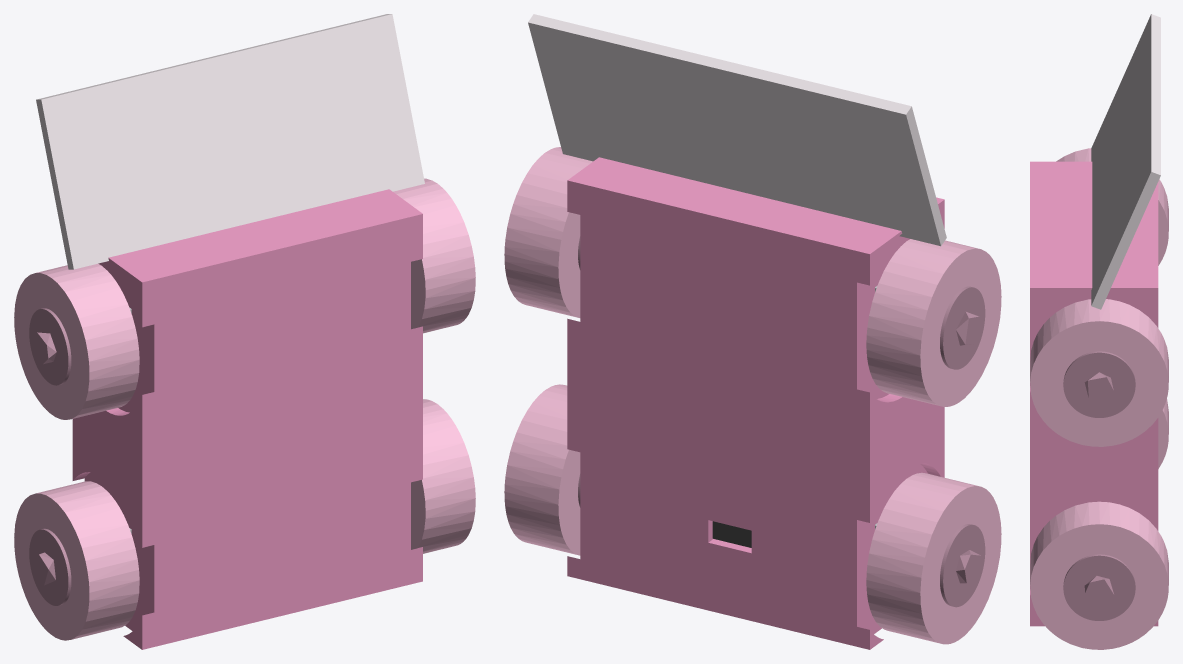
The model's file is bzwroink.glb.
3 views of the same model, side by side, from view 1: azimuth 30°, elevation 25°; view 2: azimuth 150°, elevation 25°; view 3: azimuth 270°, elevation 25° (orthographic). The views are drawn at different scales.
Visible parts, largest first — view 1: chassis, scoop, wheel_r0, wheel_r1, wheel_l1, wheel_l0, dt_hub_wheel_r0, dt_hub_wheel_r1; view 2: chassis, scoop, wheel_r0, wheel_r1, wheel_l1, wheel_l0, dt_hub_wheel_r0, dt_hub_wheel_r1, el_switch; view 3: chassis, wheel_l0, wheel_l1, scoop, dt_hub_wheel_l0, dt_hub_wheel_l1, wheel_r1, wheel_r0.
Part boxes in pixels (x1,y1,x2,y2): chassis: [72, 189, 422, 649]; scoop: [36, 14, 424, 269]; wheel_r0: [14, 481, 139, 640]; wheel_r1: [14, 263, 139, 419]; wheel_l1: [393, 178, 475, 333]; wheel_l0: [411, 399, 475, 553]; dt_hub_wheel_r0: [29, 528, 71, 605]; dt_hub_wheel_r1: [29, 308, 71, 385]; chassis: [567, 157, 944, 649]; scoop: [528, 14, 946, 246]; wheel_r0: [866, 472, 1001, 644]; wheel_r1: [866, 239, 1001, 406]; wheel_l1: [504, 147, 592, 317]; wheel_l0: [504, 384, 580, 555]; dt_hub_wheel_r0: [940, 524, 985, 607]; dt_hub_wheel_r1: [940, 286, 985, 369]; el_switch: [712, 521, 751, 547]; chassis: [1030, 161, 1158, 626]; wheel_l0: [1030, 501, 1168, 649]; wheel_l1: [1030, 299, 1168, 446]; scoop: [1091, 14, 1160, 309]; dt_hub_wheel_l0: [1063, 554, 1135, 620]; dt_hub_wheel_l1: [1063, 351, 1135, 417]; wheel_r1: [1056, 148, 1168, 265]; wheel_r0: [1158, 399, 1168, 468].
Size of the model in its own units: 81.4 by 97.29 by 26.03.
